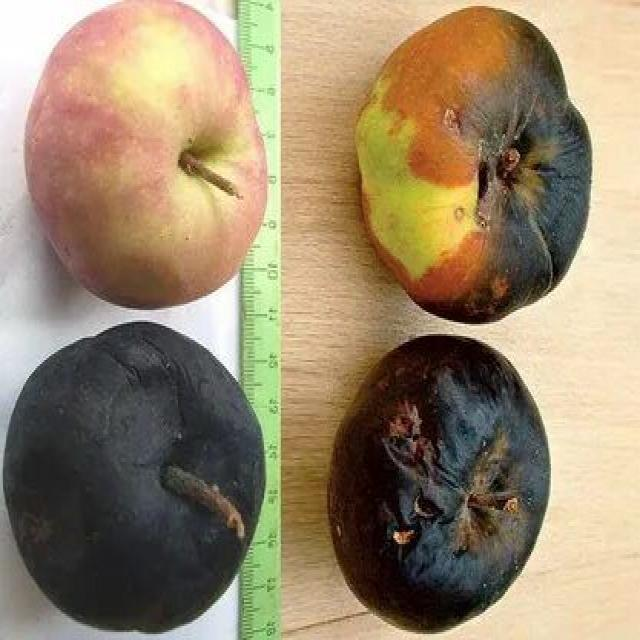fresh_apple: (24, 0, 266, 306)
rotten_apple: (2, 324, 266, 632), (357, 11, 591, 325), (326, 332, 550, 632)
